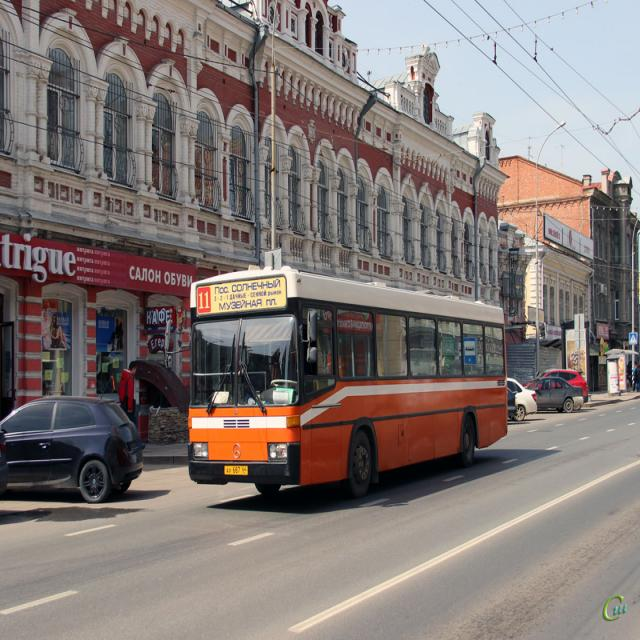number-of-bus: (200, 290, 211, 313)
